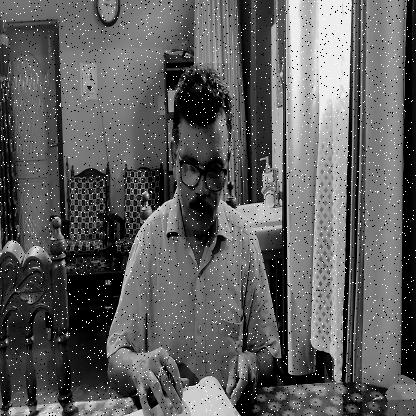Normal: (166, 63, 231, 237)
